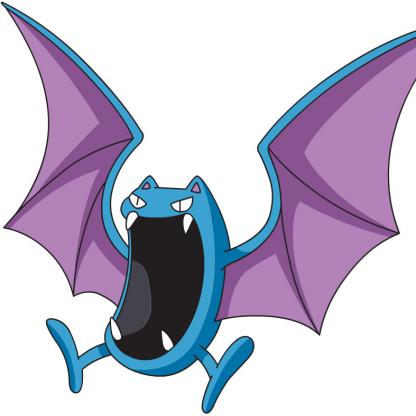Golbat: (1, 1, 416, 416)
